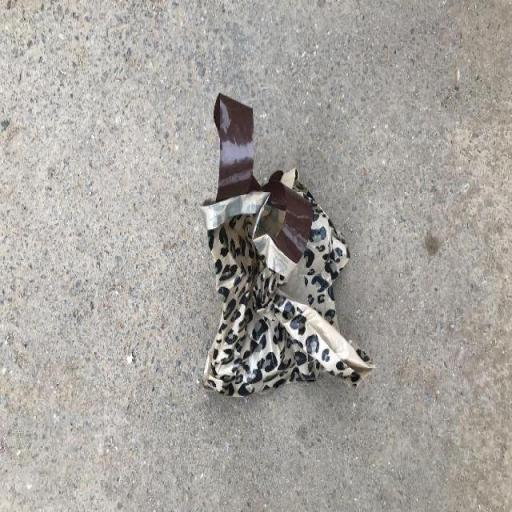plastic-bag: (202, 93, 378, 397)
